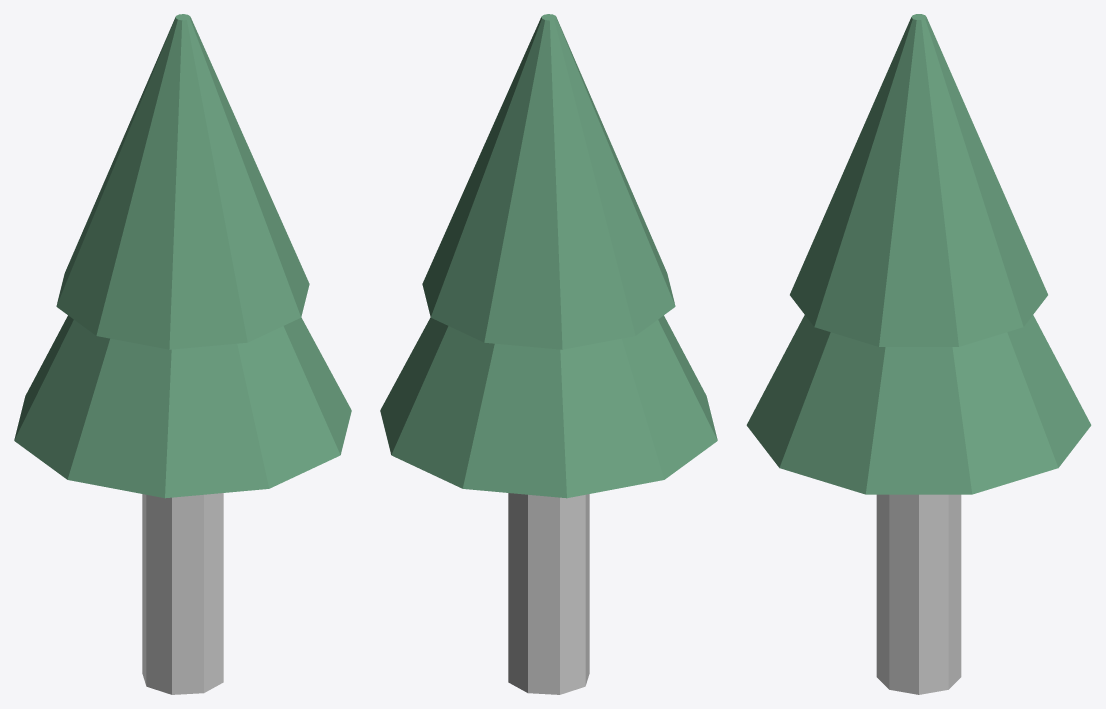
File: tree_pine_a.glb
3 views of the same model, side by side, from view 1: azimuth 30°, elevation 25°; view 2: azimuth 150°, elevation 25°; view 3: azimuth 270°, elevation 25° (orthographic).
Parts seen in each view (by area): view 1: SM_Tree_LOD0, UCY_Trunk; view 2: SM_Tree_LOD0, UCY_Trunk; view 3: SM_Tree_LOD0, UCY_Trunk.
Boxes of the visible parts, x1,y1,x2,y2 form: SM_Tree_LOD0: (14, 14, 351, 498); UCY_Trunk: (142, 493, 223, 694); SM_Tree_LOD0: (380, 14, 717, 498); UCY_Trunk: (508, 493, 589, 694); SM_Tree_LOD0: (746, 14, 1091, 494); UCY_Trunk: (876, 494, 961, 694).
Size of what is drawn, in the model's own units: 3.42 by 7.6 by 3.6.
